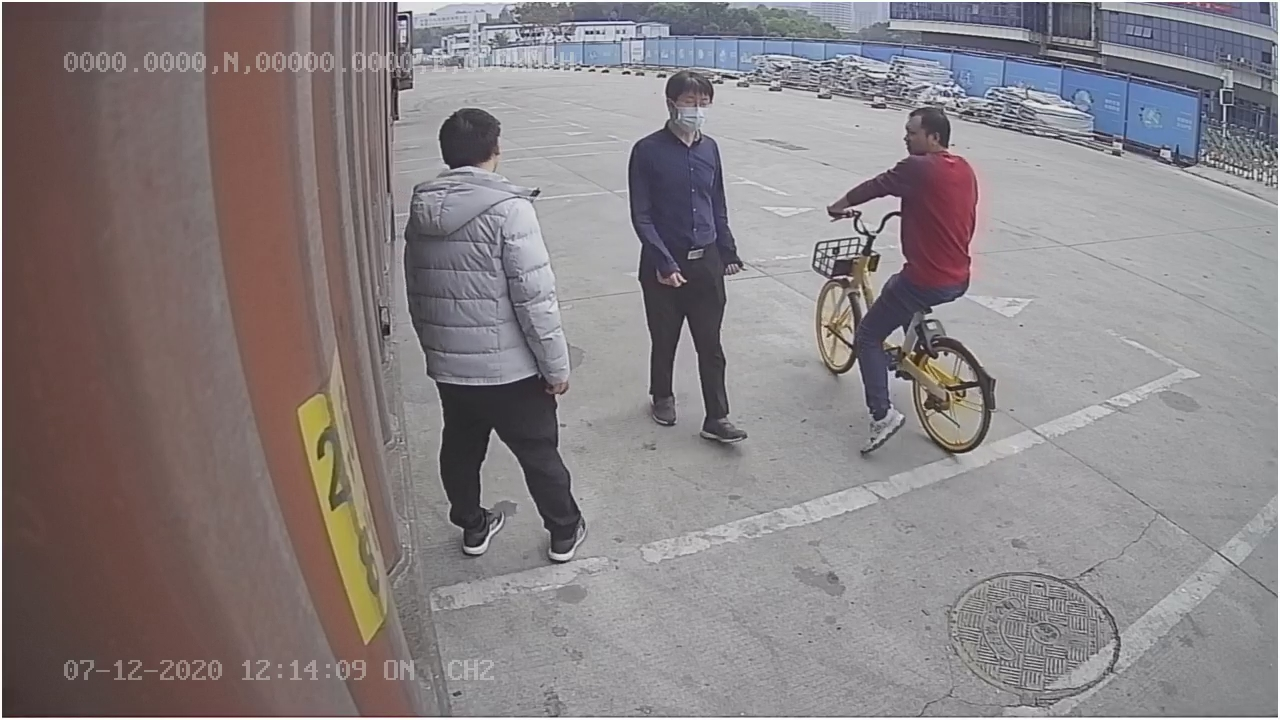person: (623, 70, 752, 444)
